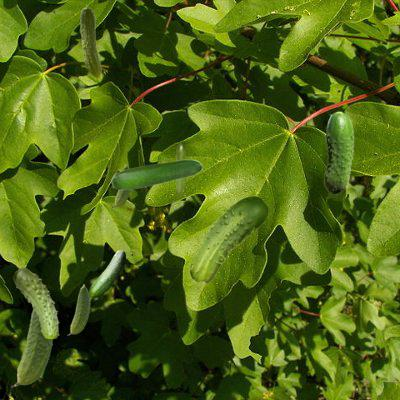cucumber: (189, 196, 267, 282), (11, 309, 53, 386), (13, 267, 58, 337), (111, 159, 201, 189), (324, 111, 353, 193), (89, 250, 124, 296), (80, 7, 100, 77), (67, 284, 89, 334), (112, 164, 130, 206), (176, 143, 184, 193)
